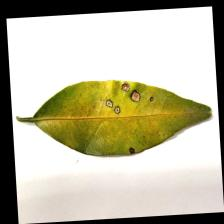canker: (90, 80, 154, 113)
